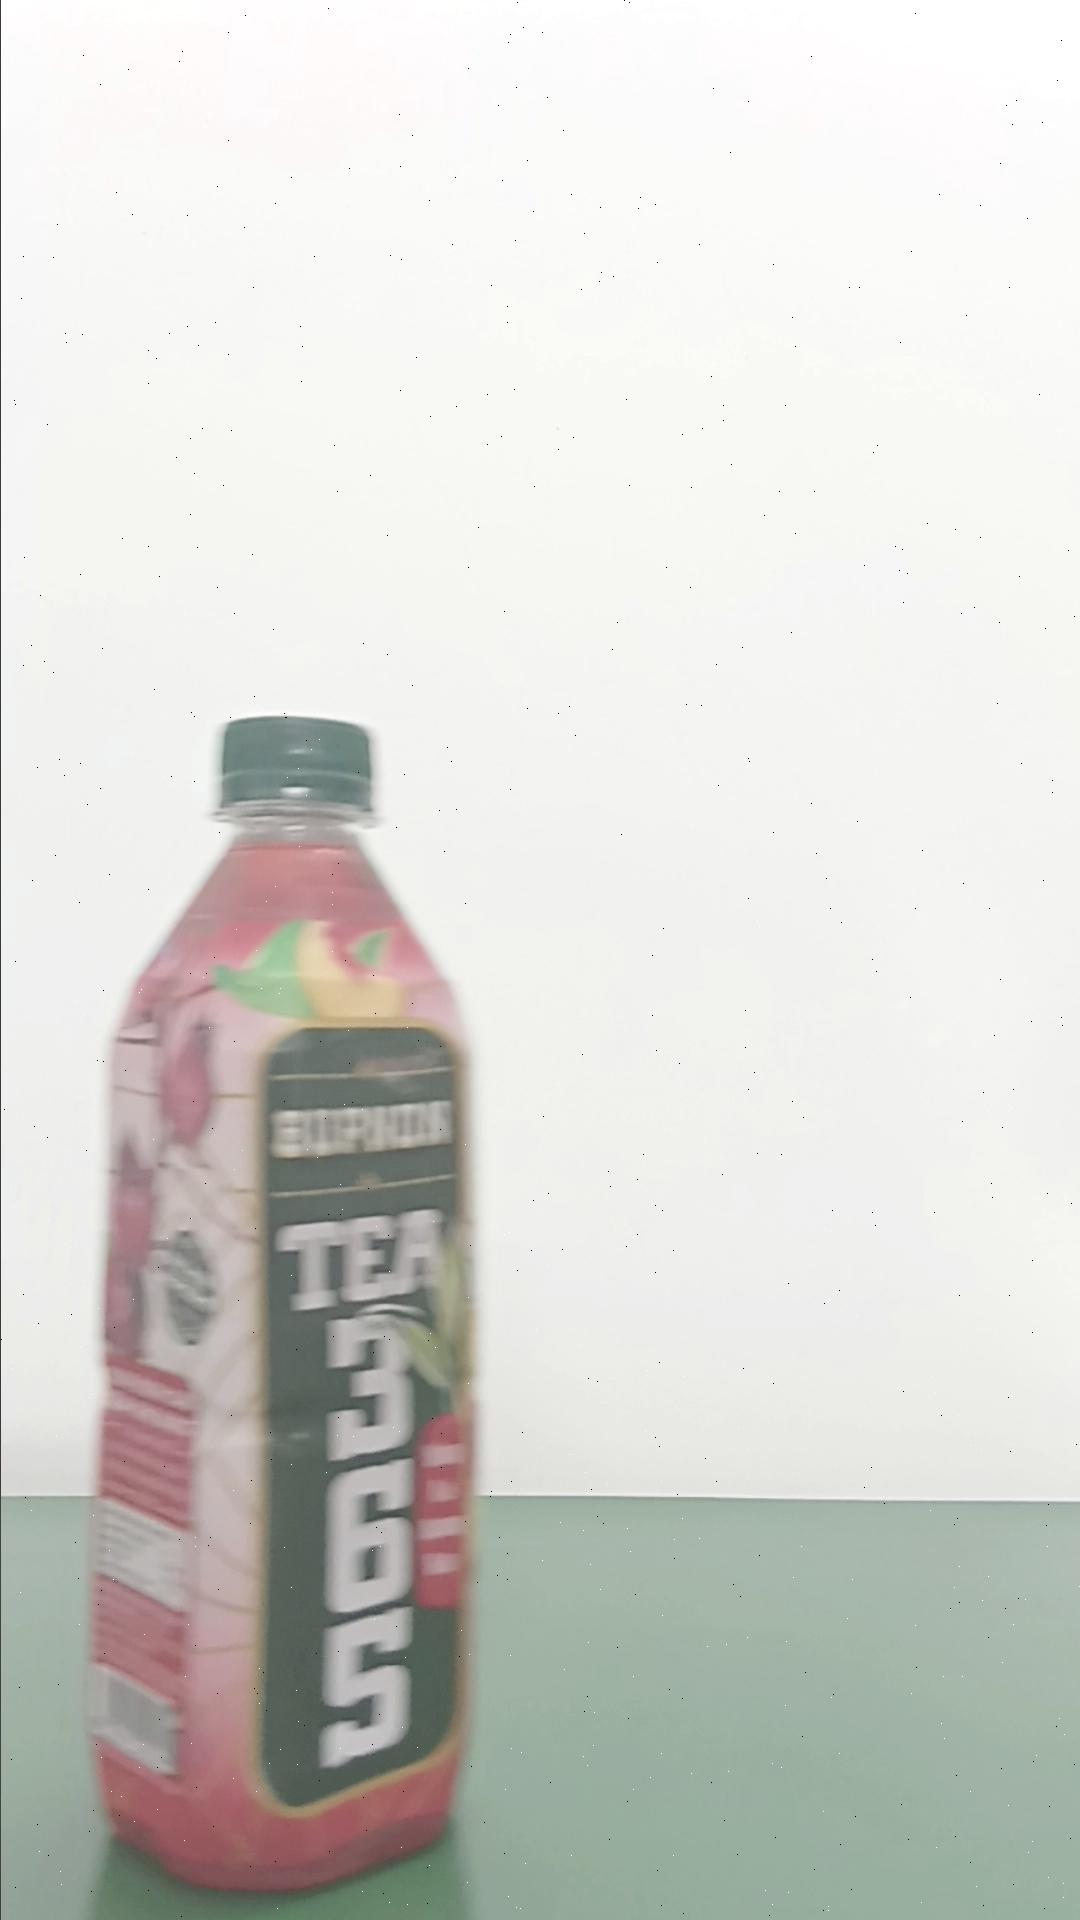khong loi: (83, 711, 481, 1894)
